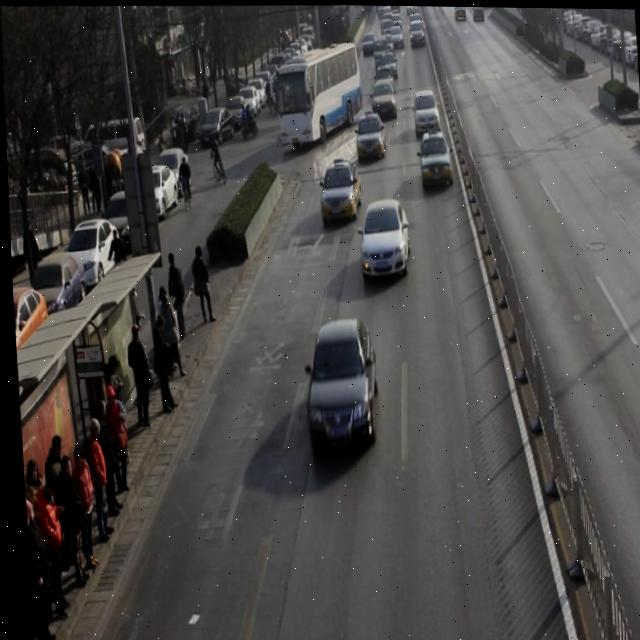car: (297, 316, 379, 451), (354, 197, 410, 278), (314, 159, 362, 224), (416, 130, 450, 185), (352, 111, 386, 160), (412, 87, 440, 134), (369, 78, 396, 119)
van: (274, 41, 362, 144)
